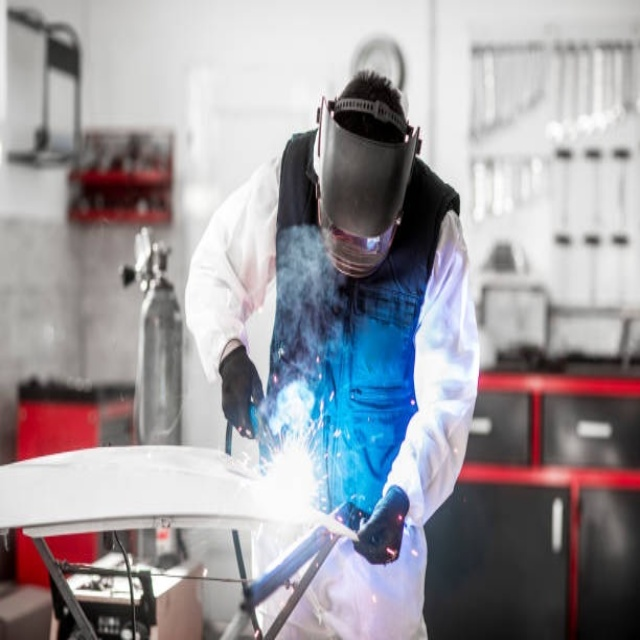Guantes: (354, 485, 410, 565), (220, 345, 265, 441)
